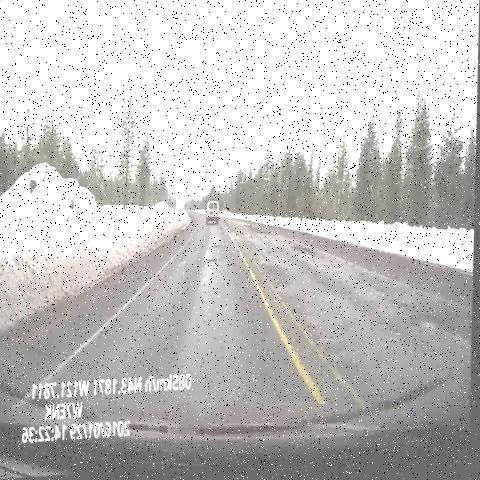pothole: (289, 238, 319, 270), (205, 258, 226, 279), (206, 241, 225, 258)
